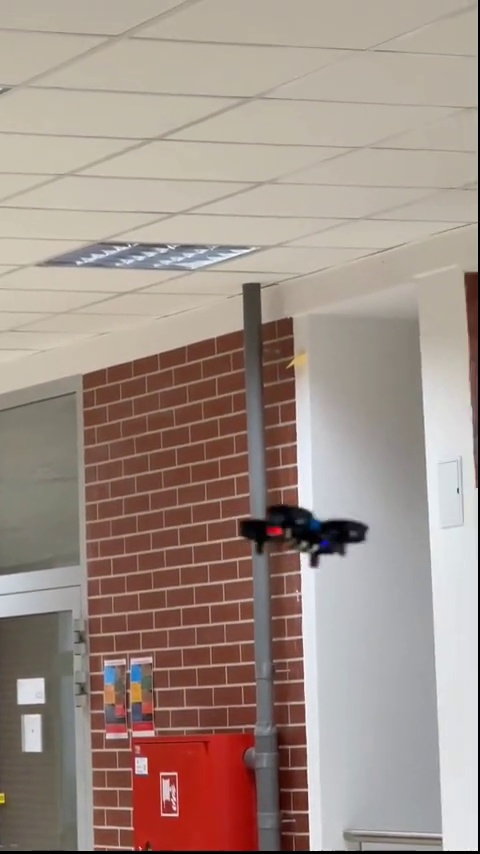drone: (236, 503, 358, 565)
